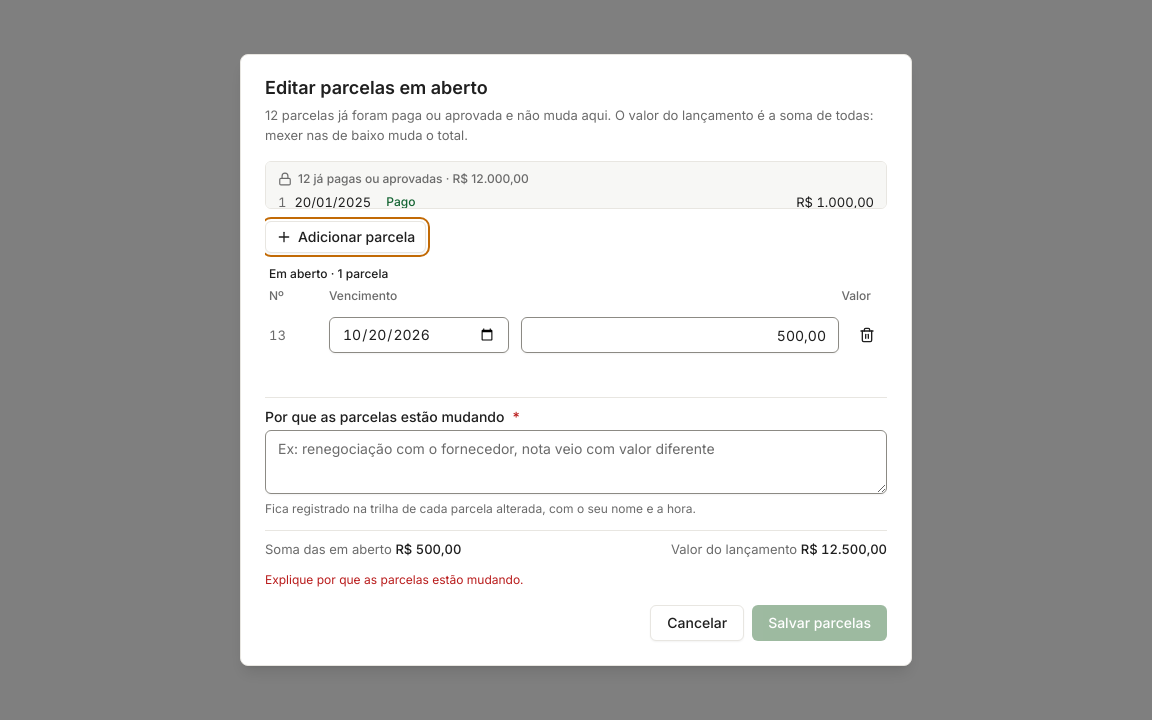
Test: DefinirParcelasDialog: dá para ver e mexer nas parcelas em aberto › adicionar parcela cria a linha E leva o cursor até ela
Expected: the number of date fields named "Vencimento da parcela" is 1, left=329, top=317, right=509, bottom=353
Click the button "Adicionar parcela" at (346, 237), box left=265, top=221, right=426, bottom=253
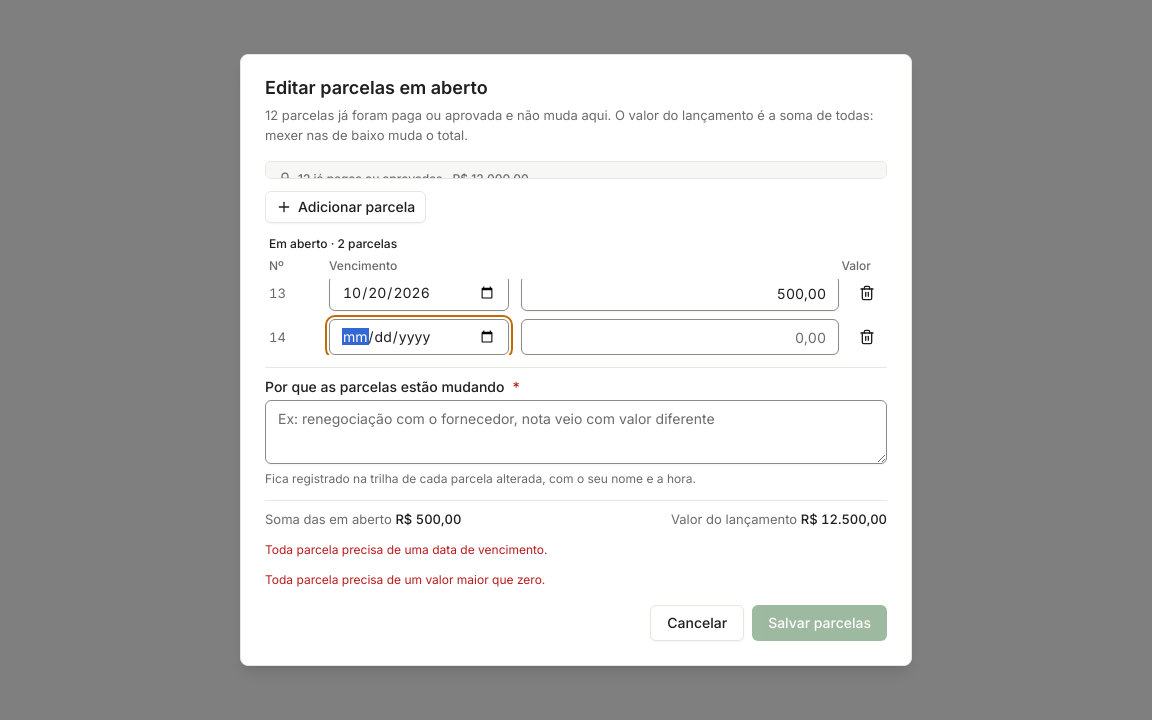
Expected: the number of date fields named "Vencimento da parcela" is 2, left=329, top=275, right=509, bottom=311; left=329, top=319, right=509, bottom=355
Expected: the date field named "Vencimento da parcela" is empty, left=329, top=319, right=509, bottom=355
